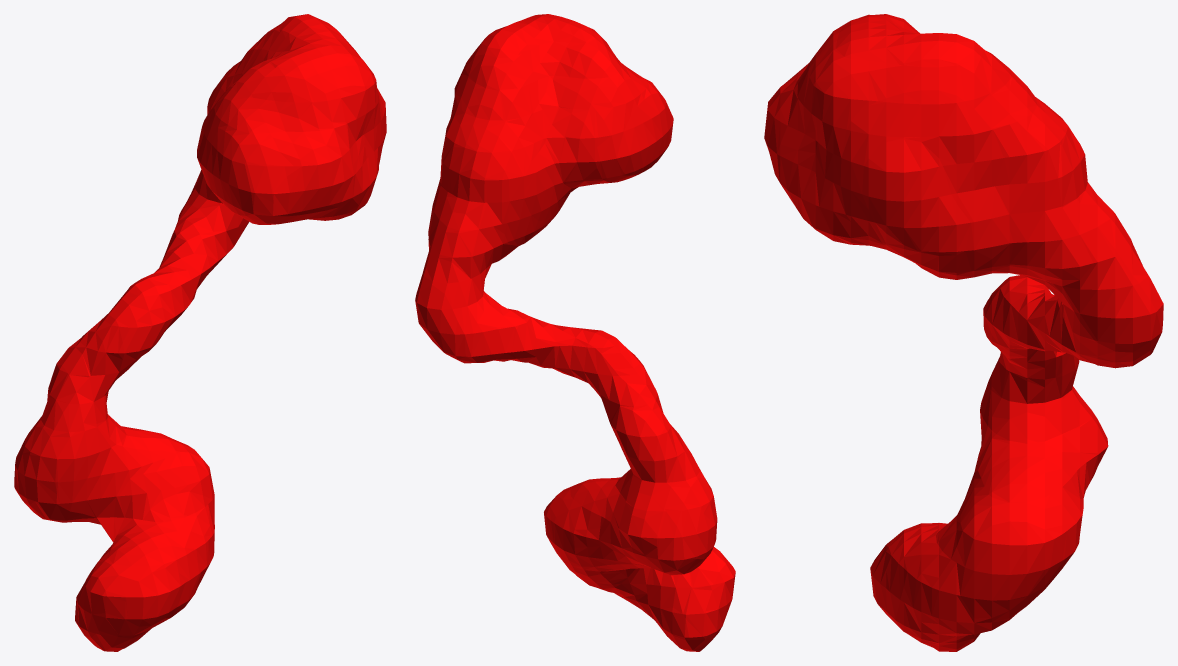
File: rplL_coarse.dae
The picture shows the model from 3 angles, left to right: view 1: azimuth 30°, elevation 25°; view 2: azimuth 150°, elevation 25°; view 3: azimuth 270°, elevation 25°; orthographic projection. The views are drawn at different scales.
Parts seen in each view (by area): view 1: rplL; view 2: rplL; view 3: rplL.
Part boxes in pixels (x1,y1,x2,y2): rplL: [14, 14, 386, 651]; rplL: [415, 14, 735, 651]; rplL: [764, 14, 1163, 651].
Bounding box in the file's own units: 48.68 × 88.86 × 43.98.
